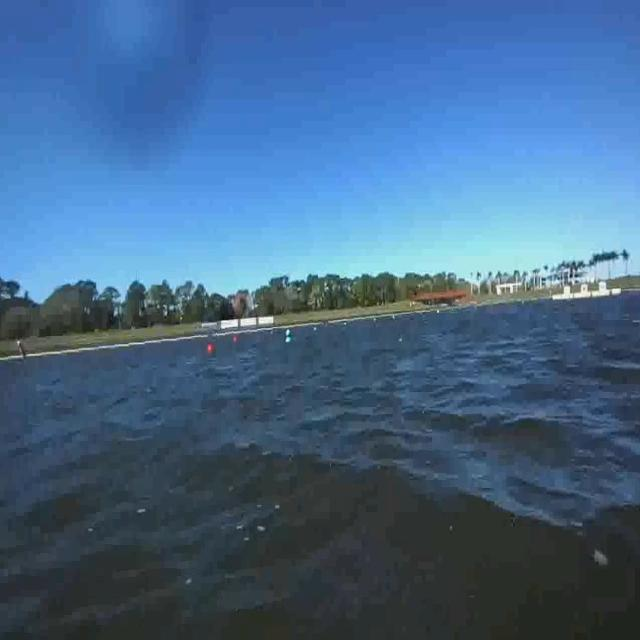red-buoy: (208, 344, 215, 353)
